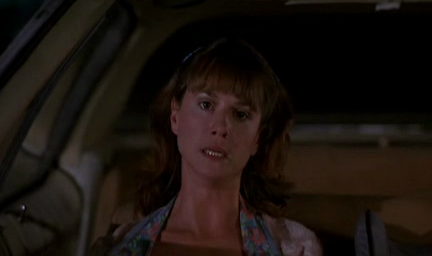cu: (1, 1, 432, 256)
face: (176, 84, 261, 181)
person: (82, 38, 324, 256)
